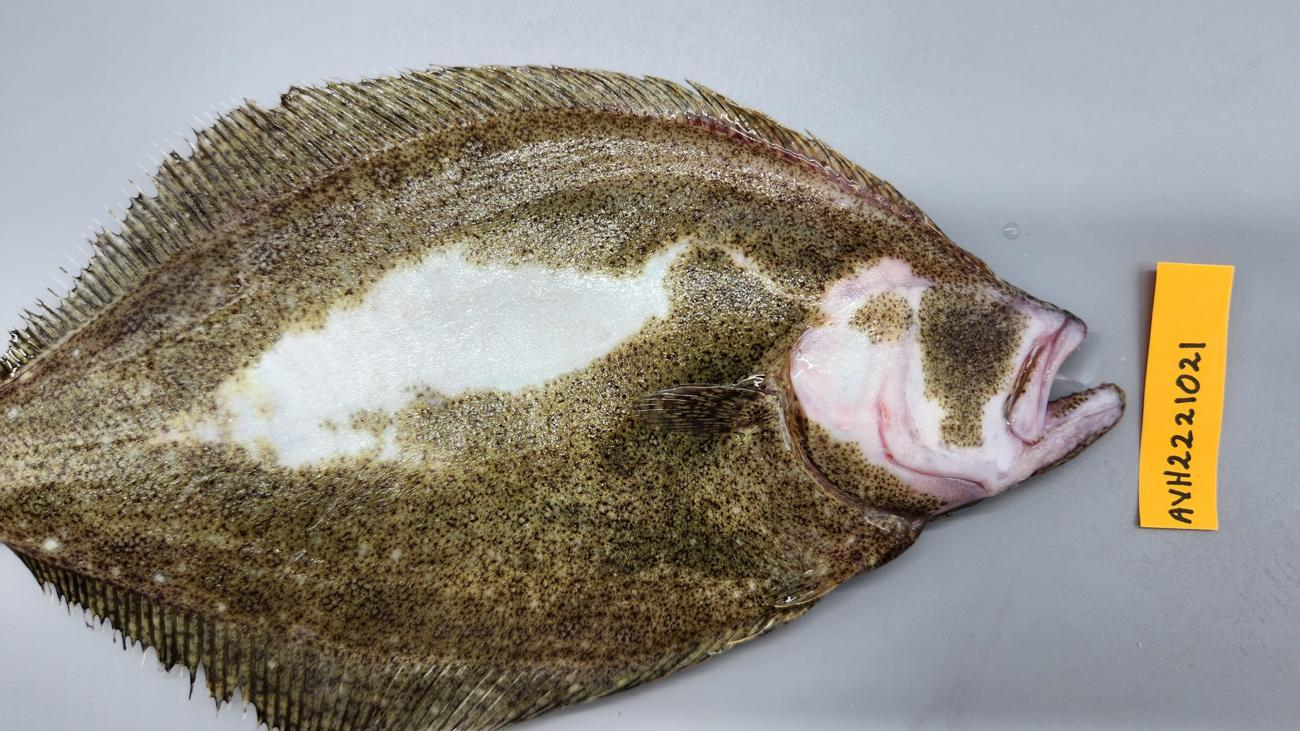VIDYH: (148, 525, 359, 621)
